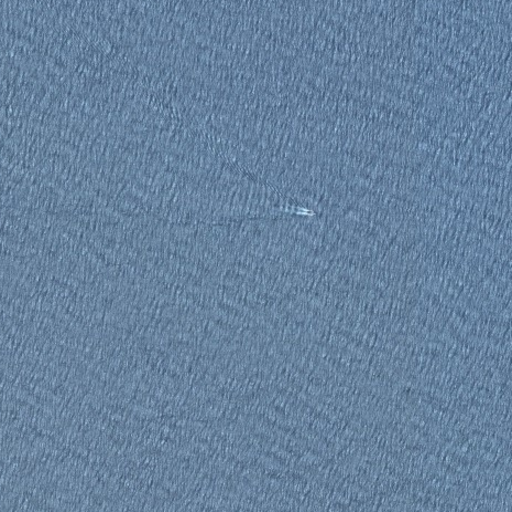ship: (297, 207, 315, 217)
